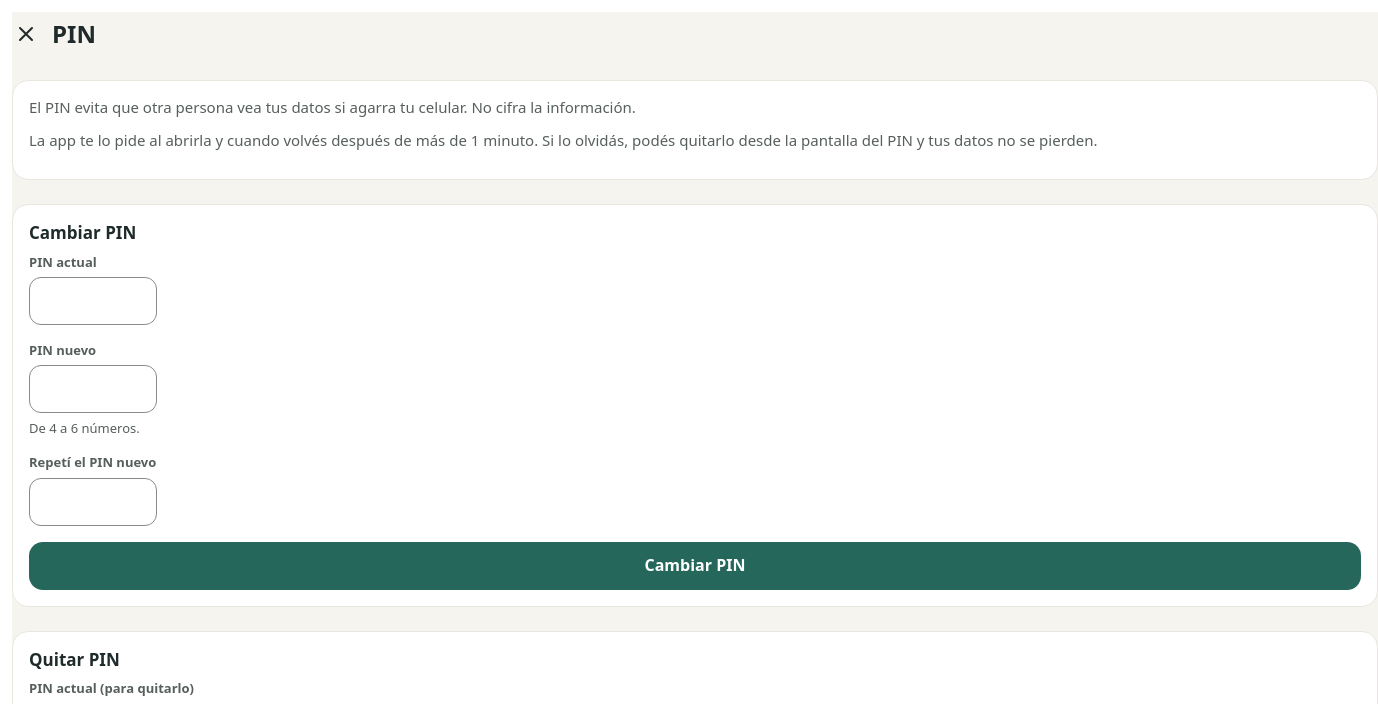
it: con PIN › con el PIN actual equivocado no cambia nada
Type "0000" into the password field labelled "PIN actual". click: (93, 301)
box: [29,277,157,325]
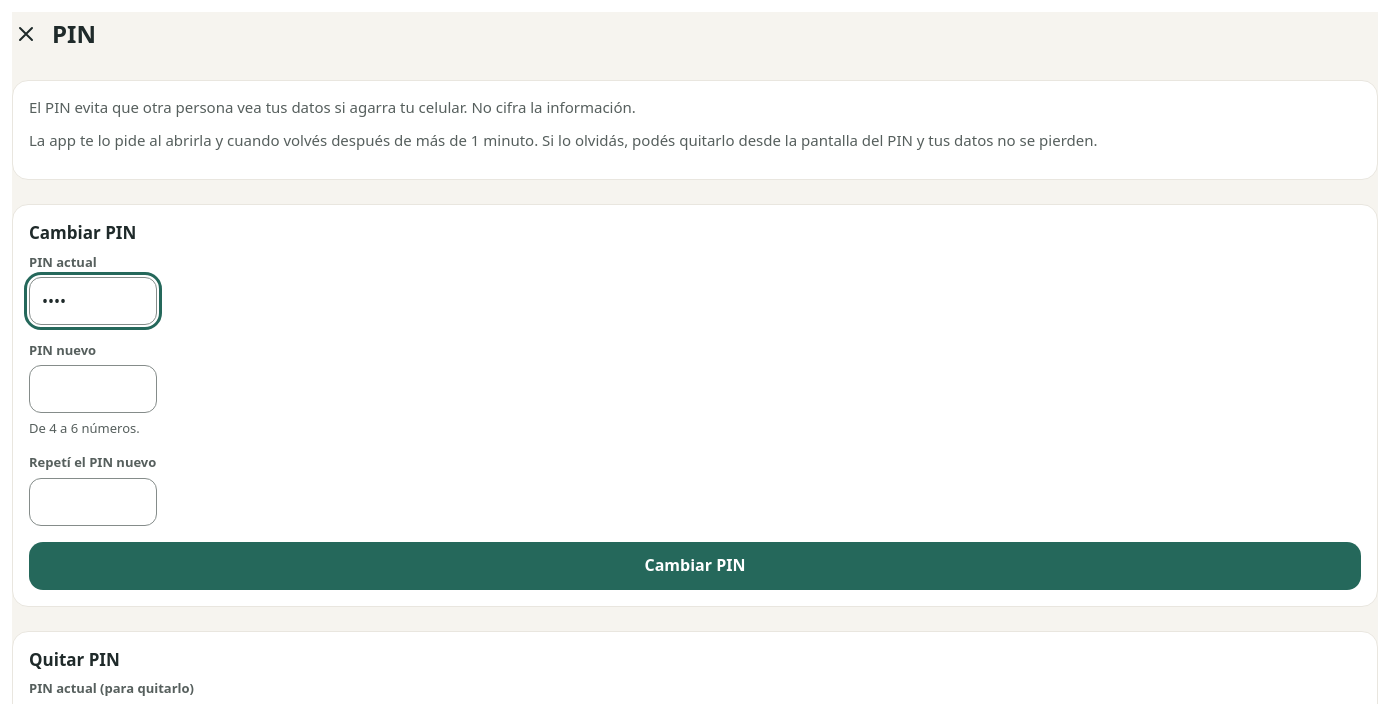
Type "9876" into the password field labelled "PIN nuevo". click: (93, 389)
box: [29,365,157,413]
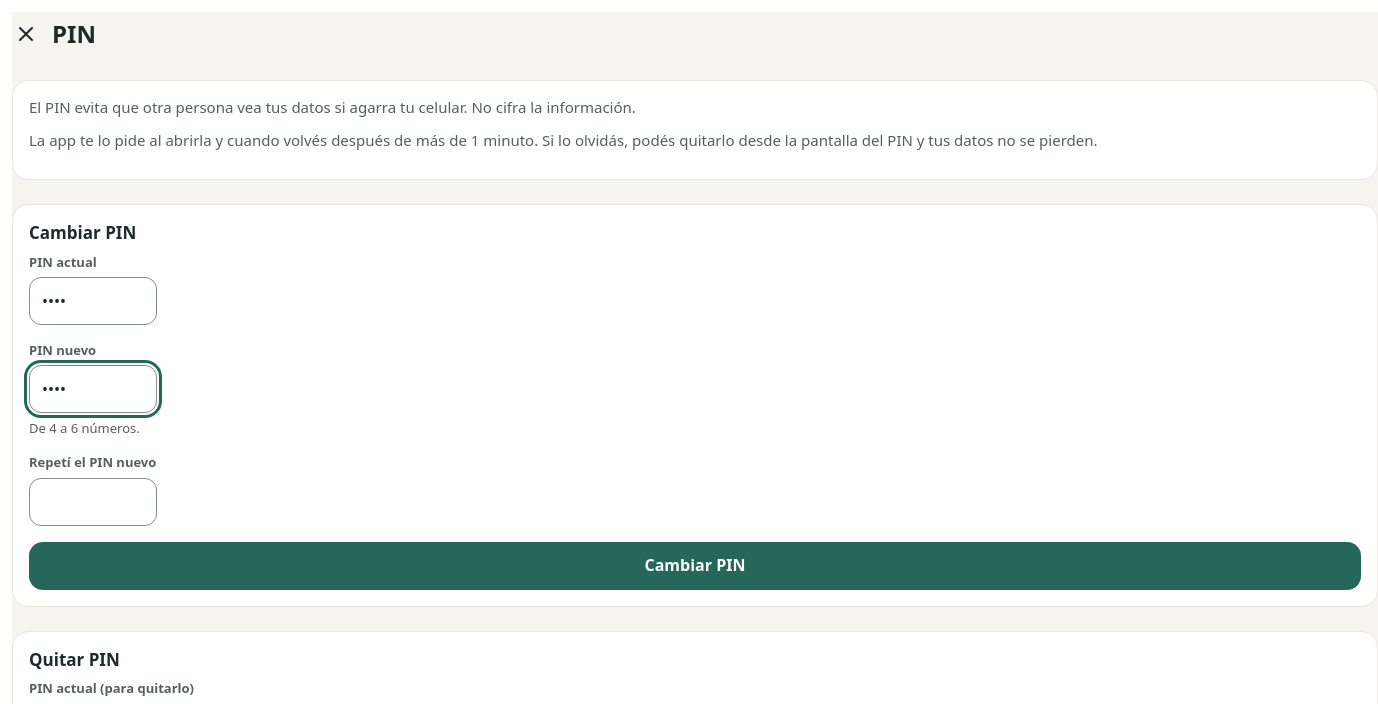
Type "9876" into the password field labelled "Repetí el PIN nuevo". click: (93, 502)
box: [29,478,157,526]
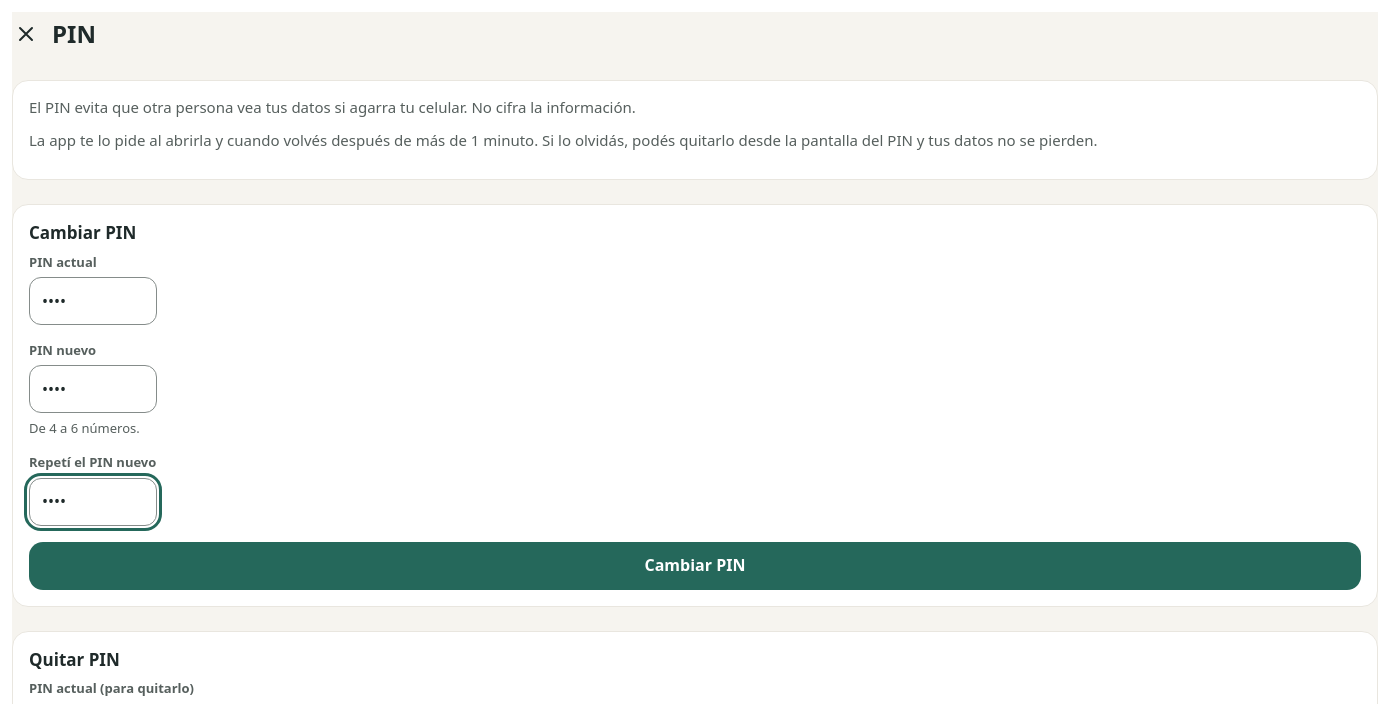
Click the button "Cambiar PIN". click: (695, 566)
box: [29,542,1361,590]
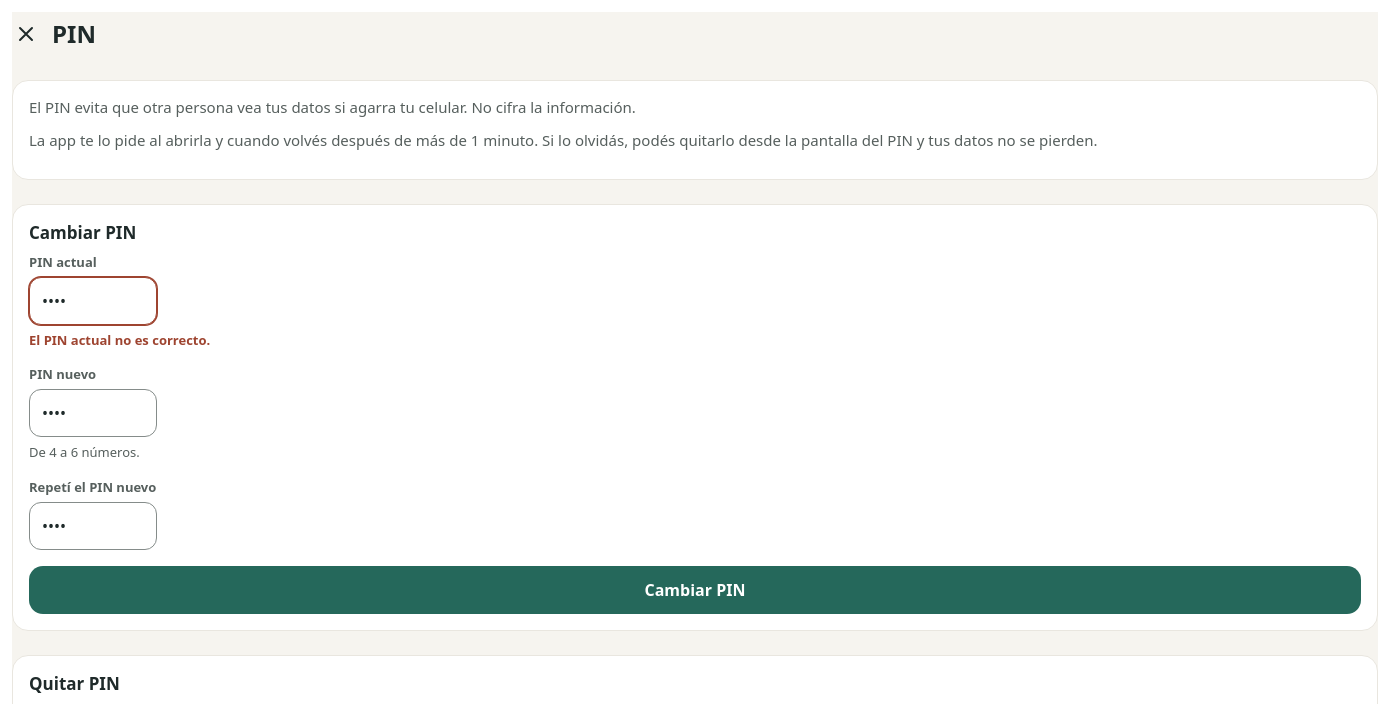
Expected: the message reads "El PIN actual no es correcto.", [29,331,210,349]
